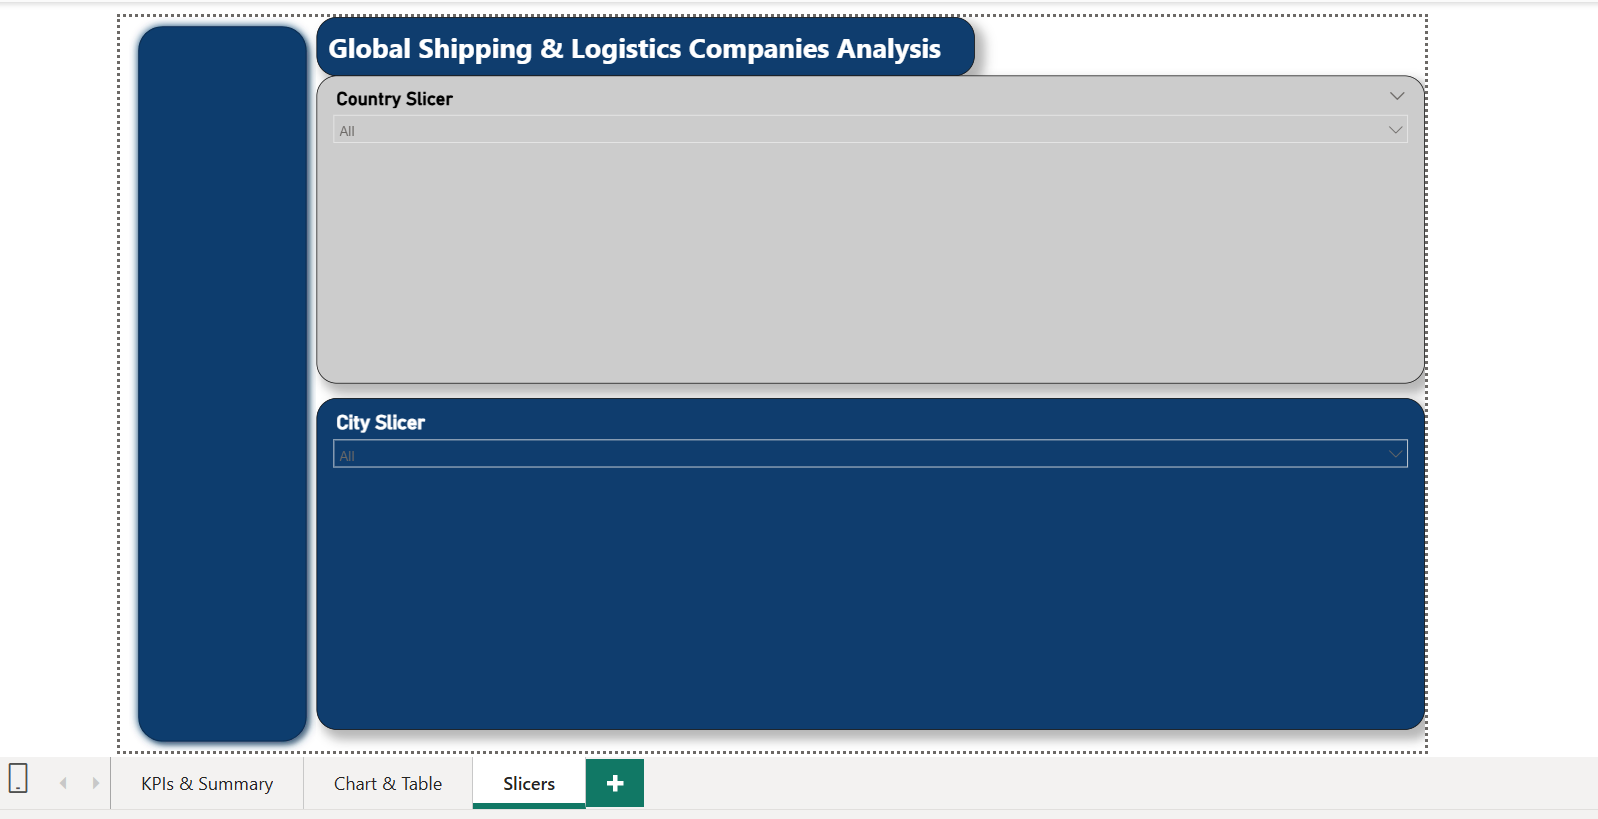

The page's visual inventory and layout, read from the dashboard file:
{"tool":"powerbi","page":{"name":"Slicers","canvas":[1280,720],"ordinal":2},"visuals":[{"type":"shape","box":[9.4,0,183.1,719.3],"z":0},{"type":"textbox","box":[192.5,0,645.6,58.2],"z":1000},{"type":"slicer","fields":{"Values":["ShippingCompaniesDatabase.Country"]},"box":[192.4,57.7,1087,302],"z":3000},{"type":"slicer","fields":{"Values":["ShippingCompaniesDatabase.City"]},"box":[192.4,373.2,1087,325.1],"z":4000}]}

Visuals, with their boxes on the page's 1280x720 design canvas (x1, y1, x2, y2). These are canvas units, not pixel positions in the 1598x819 screenshot, which may show the page scaled, cropped or inside an application window:
shape: region(9, 0, 192, 719)
textbox: region(192, 0, 838, 58)
slicer - ShippingCompaniesDatabase.Country: region(192, 58, 1279, 360)
slicer - ShippingCompaniesDatabase.City: region(192, 373, 1279, 698)
